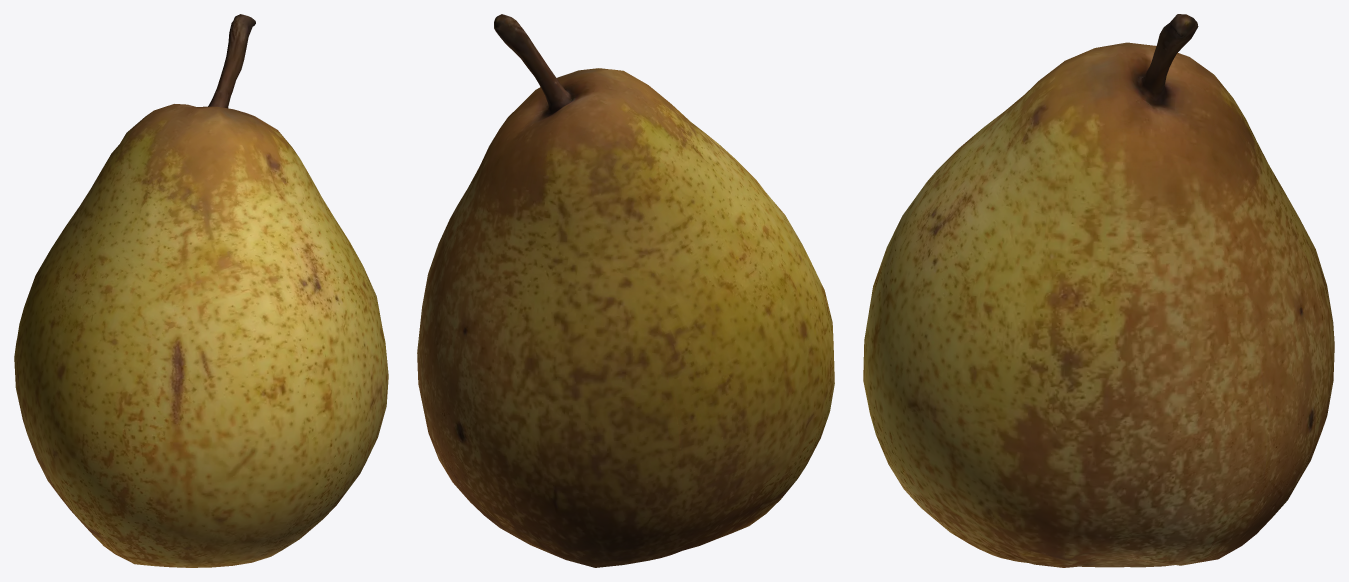
File: pear-2.glb
3 views of the same model, side by side, from view 1: azimuth 30°, elevation 25°; view 2: azimuth 150°, elevation 25°; view 3: azimuth 270°, elevation 25° (orthographic). The views are drawn at different scales.
Parts seen in each view (by area): view 1: PearLP_Material.001_0; view 2: PearLP_Material.001_0; view 3: PearLP_Material.001_0.
Part boxes in pixels (x1,y1,x2,y2): PearLP_Material.001_0: (14,14,388,567); PearLP_Material.001_0: (417,14,834,567); PearLP_Material.001_0: (863,14,1334,567).
Size of the model in its own units: 1.96 by 2.72 by 2.05.
Materials: 1 (1 with a texture image).
